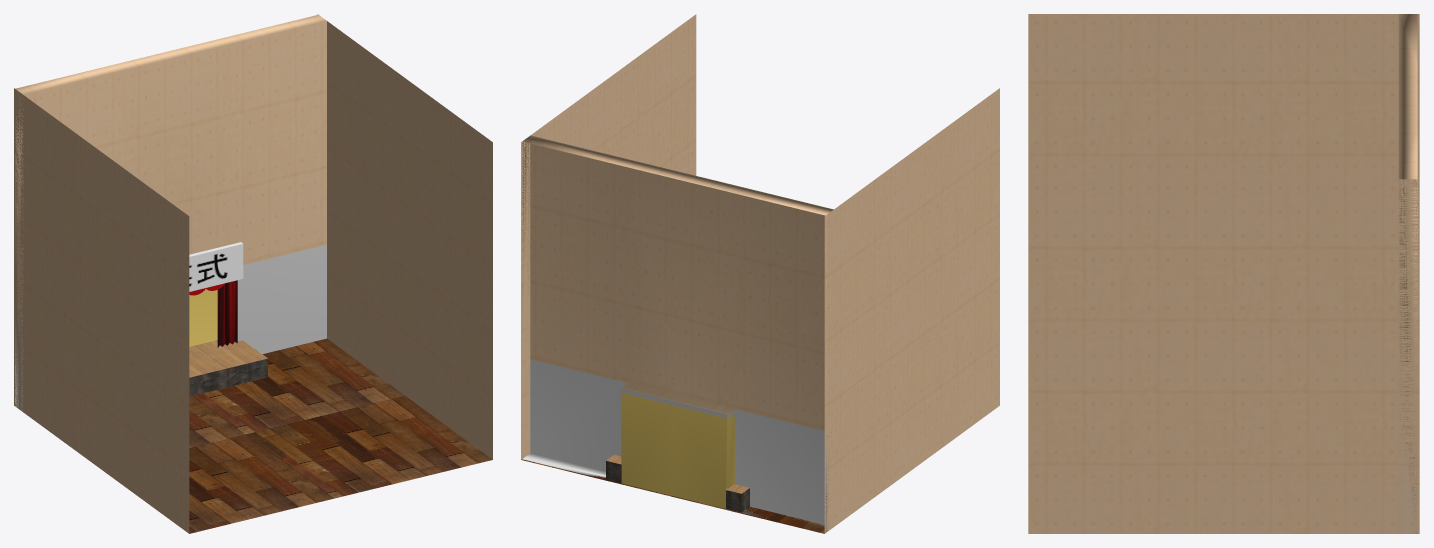
The model's file is taikukan.fbx.
3 views of the same model, side by side, from view 1: azimuth 30°, elevation 25°; view 2: azimuth 150°, elevation 25°; view 3: azimuth 270°, elevation 25° (orthographic). The views are drawn at different scales.
Parts seen in each view (by area): view 1: pCube2, pCube3, pPlane1, pCube1, pCube4, polySurface2; view 2: pCube3, pCube2, pPlane1, pCube1; view 3: pCube2, pCube3.
Boxes of the visible parts, <box> form: pCube2: <box>14,14,492,533</box>; pCube3: <box>15,14,326,411</box>; pPlane1: <box>189,338,492,533</box>; pCube1: <box>189,340,267,396</box>; pCube4: <box>189,242,243,291</box>; polySurface2: <box>189,280,237,347</box>; pCube3: <box>522,135,833,532</box>; pCube2: <box>521,14,999,533</box>; pPlane1: <box>521,459,824,533</box>; pCube1: <box>606,455,749,512</box>; pCube2: <box>1028,14,1419,533</box>; pCube3: <box>1398,14,1417,533</box>.
Size of the model in its own units: 3000 by 3002 by 3000.
Materials: 2 (2 with a texture image).
